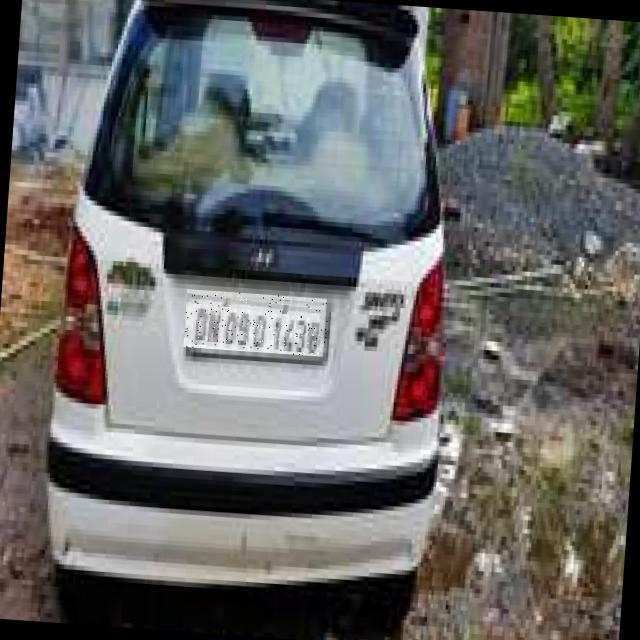Plate: (184, 290, 330, 358)
